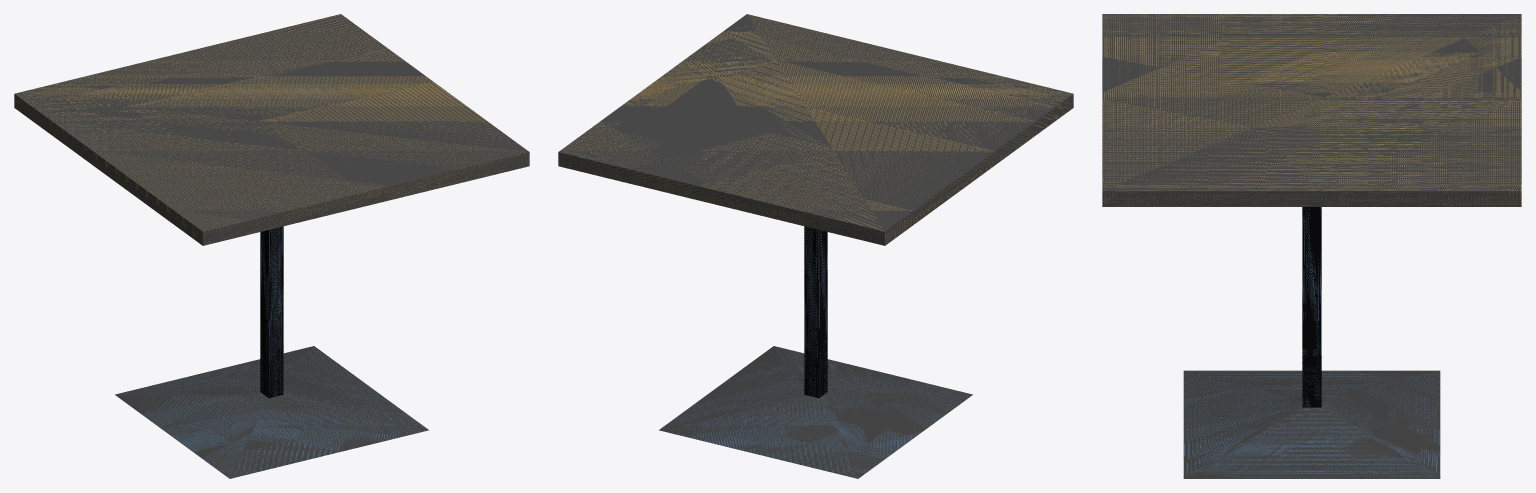
The model's file is table.dae.
3 renders of one model, left to right at view 1: azimuth 30°, elevation 25°; view 2: azimuth 150°, elevation 25°; view 3: azimuth 270°, elevation 25°, orthographic. The views are drawn at different scales.
Parts seen in each view (by area): view 1: Top_Square, Base_Square (×2); view 2: Top_Square, Base_Square (×2); view 3: Top_Square, Base_Square (×2).
Part boxes in pixels (x1,y1,x2,y2): Top_Square: [14, 14, 529, 245]; Base_Square (×2): [115, 226, 428, 478]; Top_Square: [558, 14, 1073, 245]; Base_Square (×2): [659, 226, 972, 478]; Top_Square: [1102, 14, 1521, 206]; Base_Square (×2): [1183, 207, 1440, 478].
Bounding box in the file's own units: 36 × 36 × 30.5.
5 materials, 1 textured.
